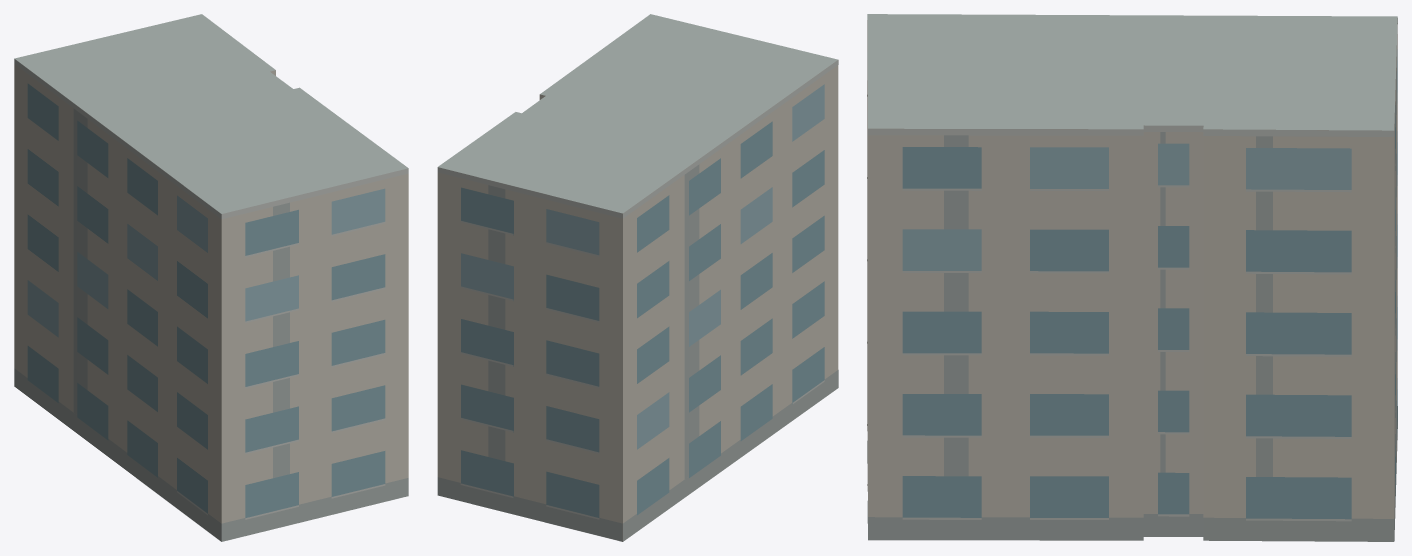
The model's file is survey-upis-32637733.glb.
The picture shows the model from 3 angles, left to right: view 1: azimuth 30°, elevation 25°; view 2: azimuth 150°, elevation 25°; view 3: azimuth 270°, elevation 25°; orthographic projection. The views are drawn at different scales.
Visible parts, largest first — view 1: survey-upis-32637733.tmp; view 2: survey-upis-32637733.tmp; view 3: survey-upis-32637733.tmp.
Part boxes in pixels (<box>): survey-upis-32637733.tmp: <box>14,14,408,541</box>; survey-upis-32637733.tmp: <box>437,14,838,541</box>; survey-upis-32637733.tmp: <box>867,14,1397,541</box>.
Size of the model in its own units: 9.27 by 15.25 by 17.83.
